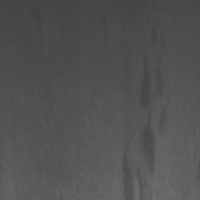inclusion: (121, 23, 170, 199)
